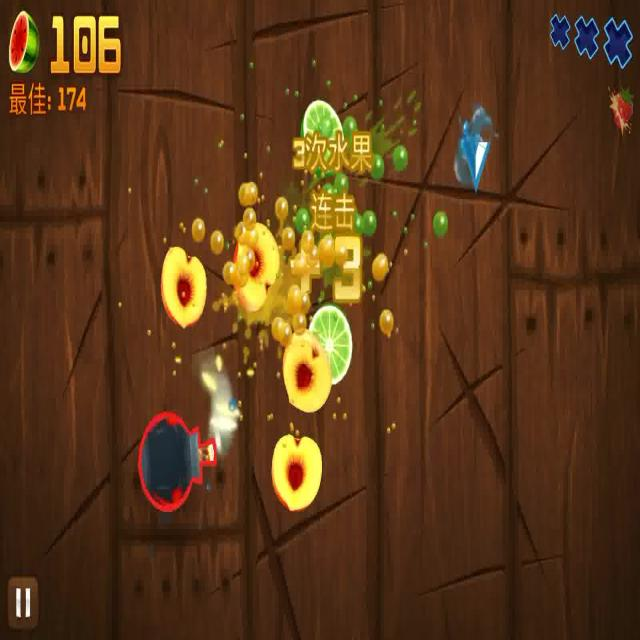bomb: (138, 397, 227, 520)
fruit: (280, 334, 336, 416), (238, 210, 280, 319), (271, 432, 324, 510), (302, 100, 357, 174), (164, 244, 206, 326), (311, 304, 352, 384)
